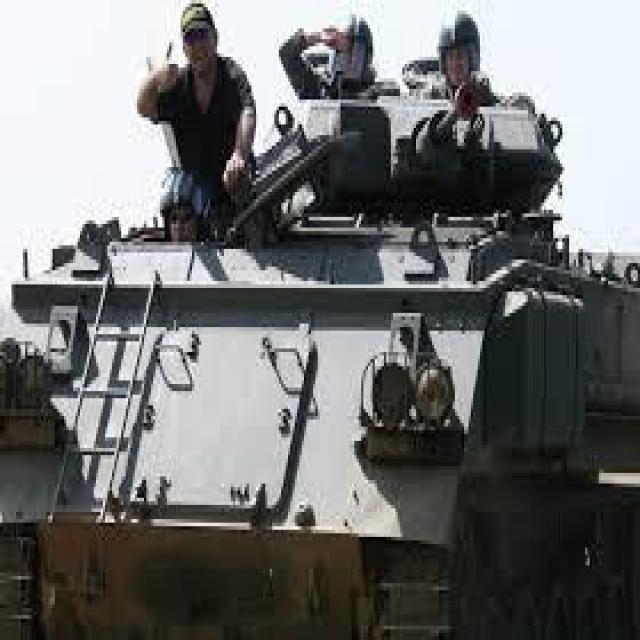MIL_MBT: (21, 98, 619, 635)
